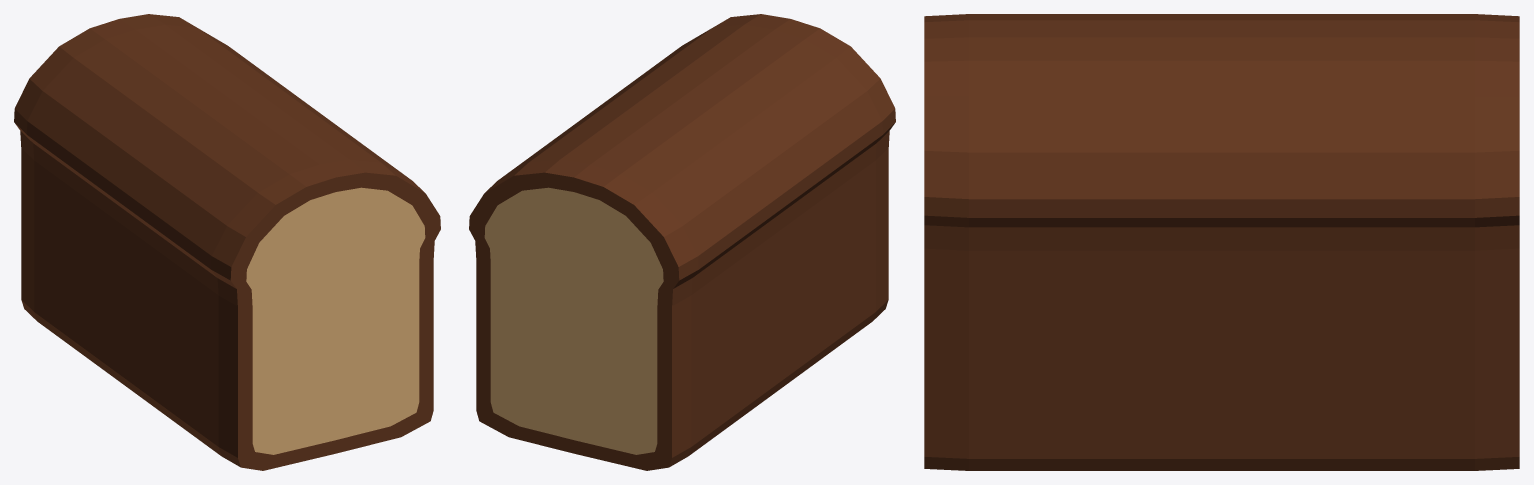
File: Bread.obj
The picture shows the model from 3 angles, left to right: view 1: azimuth 30°, elevation 25°; view 2: azimuth 150°, elevation 25°; view 3: azimuth 270°, elevation 25°; orthographic projection. The views are drawn at different scales.
Parts seen in each view (by area): view 1: Bread_Brown, Bread_Light; view 2: Bread_Brown, Bread_Light; view 3: Bread_Brown.
Boxes of the visible parts, bbox=[...] form: Bread_Brown: bbox=[14, 14, 440, 470]; Bread_Light: bbox=[246, 187, 425, 454]; Bread_Brown: bbox=[469, 14, 895, 470]; Bread_Light: bbox=[484, 187, 663, 454]; Bread_Brown: bbox=[924, 14, 1519, 470].
Bounding box in the file's own units: 0.6933 × 0.847 × 1.2.
